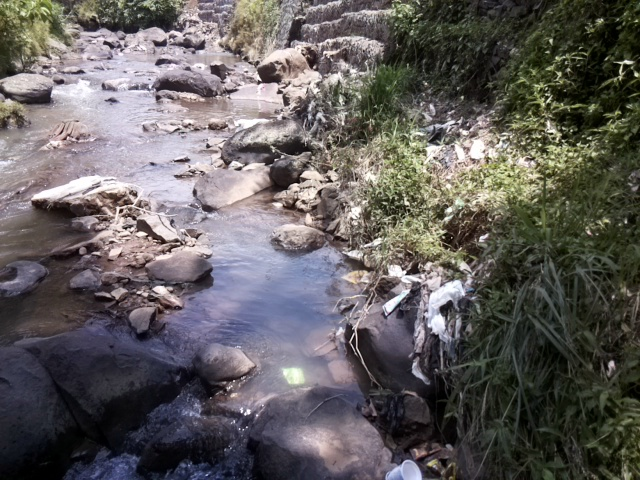Sampah_Styrofoam: (384, 460, 423, 480)
